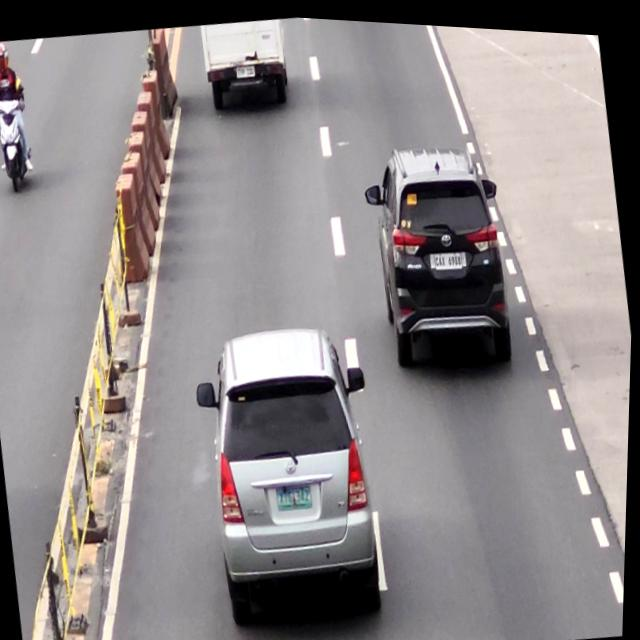Car: (185, 312, 401, 636), (357, 127, 526, 380), (196, 11, 294, 113)
License-Plate: (278, 476, 317, 509), (435, 245, 465, 266), (236, 60, 257, 77)
